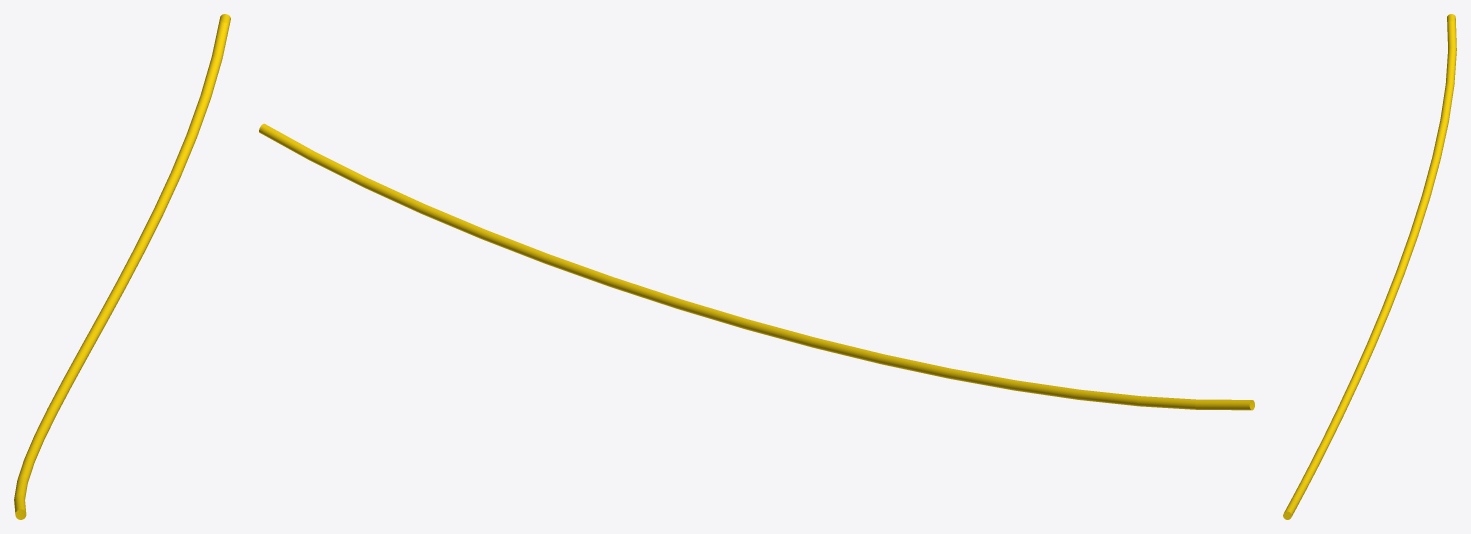
Rendered from Event_420094457_track_61.fbx.
The picture shows the model from 3 angles, left to right: view 1: azimuth 90°, elevation 25°; view 2: azimuth 150°, elevation 25°; view 3: azimuth 270°, elevation 25°; orthographic projection. The views are drawn at different scales.
Parts seen in each view (by area): view 1: Model; view 2: Model; view 3: Model.
Part boxes in pixels (bbox=[...]): Model: bbox=[14, 14, 230, 519]; Model: bbox=[259, 123, 1254, 410]; Model: bbox=[1283, 14, 1456, 519].
Bounding box in the file's own units: 4.83 × 0.4193 × 0.791.
